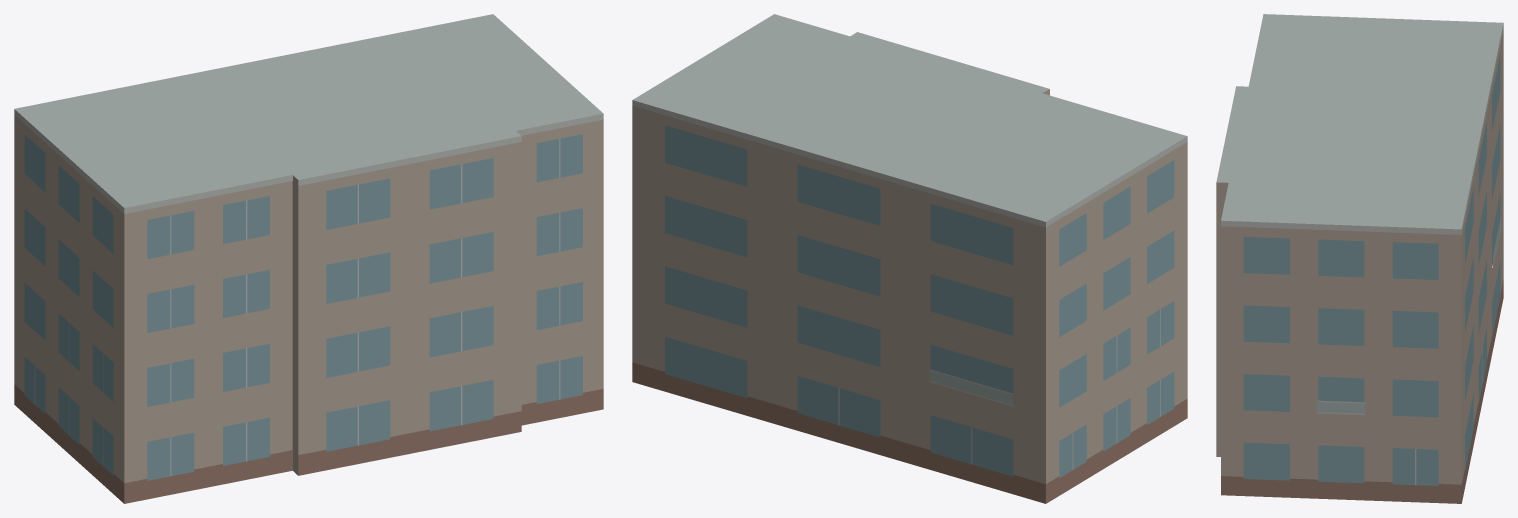
Rendered from survey-upis-32764689.glb.
3 views of the same model, side by side, from view 1: azimuth 30°, elevation 25°; view 2: azimuth 150°, elevation 25°; view 3: azimuth 270°, elevation 25° (orthographic). The views are drawn at different scales.
Parts seen in each view (by area): view 1: survey-upis-32764689.tmp; view 2: survey-upis-32764689.tmp; view 3: survey-upis-32764689.tmp.
Part boxes in pixels (bbox=[...]): survey-upis-32764689.tmp: bbox=[14, 14, 603, 503]; survey-upis-32764689.tmp: bbox=[632, 14, 1187, 503]; survey-upis-32764689.tmp: bbox=[1216, 14, 1503, 503].
Size of the model in its own units: 20.55 by 12.2 by 11.58.
